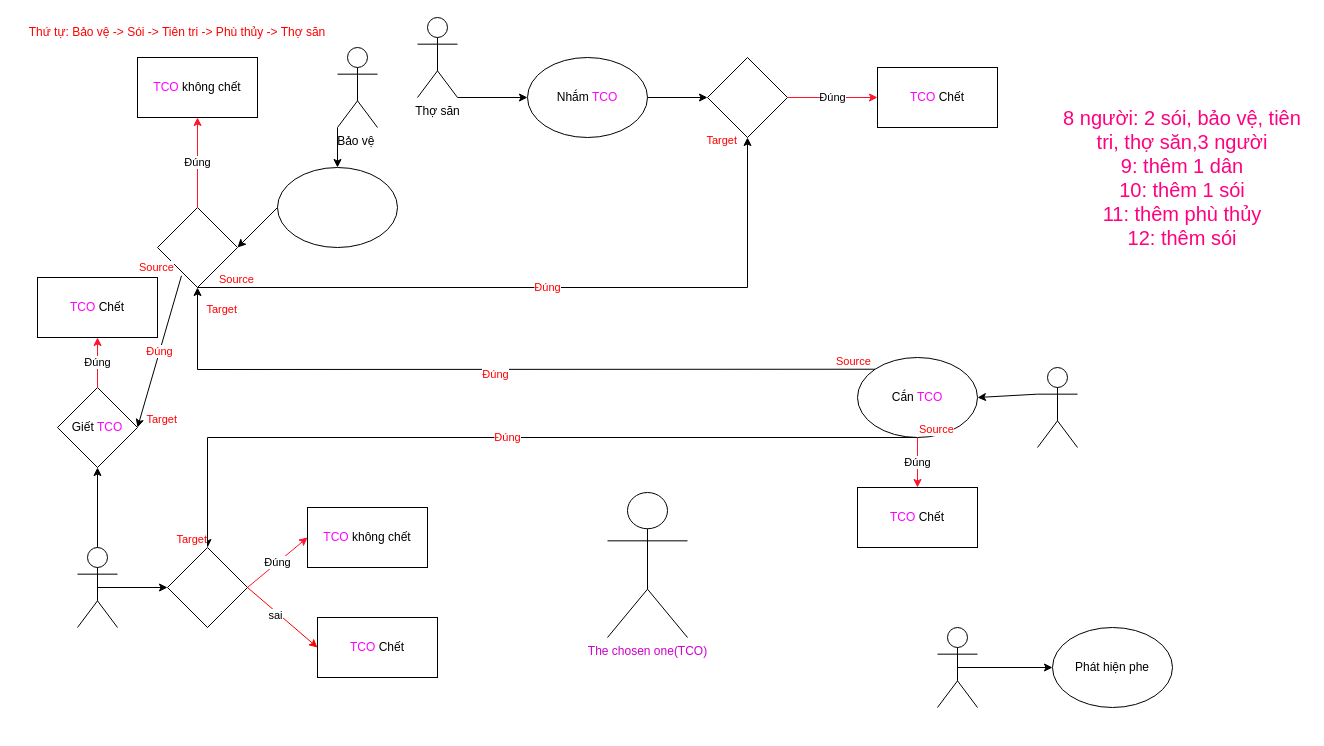
Some shapes in this 1324 by 746 pixel diagram are drawn without their labels. The shapes that lost their labels are listed below. From the top down, each one's centre as x and y in pixels, then its label:
[747,97]: Nếu thợ săn oẳng
[337,207]: bảo vệ TCO
[197,247]: Bảo vệ đúng TCO
[1057,407]: Sói
[97,587]: Phù thủy
[207,587]: Cứu TCO bị cắn
[957,667]: Tiên tri
